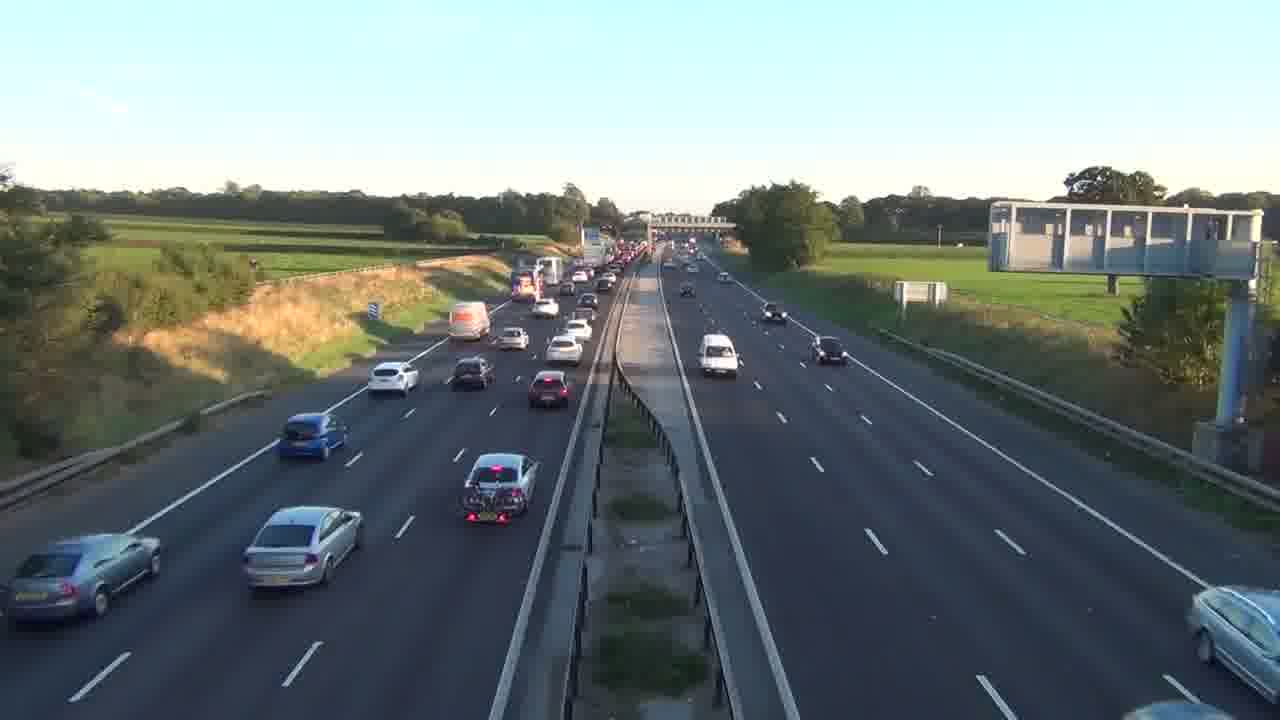car: (1, 532, 162, 625), (1186, 585, 1280, 705), (241, 504, 363, 593), (278, 411, 350, 460), (367, 361, 417, 396), (446, 355, 493, 391), (527, 370, 570, 409)
truck: (461, 451, 542, 525), (447, 301, 490, 341)
